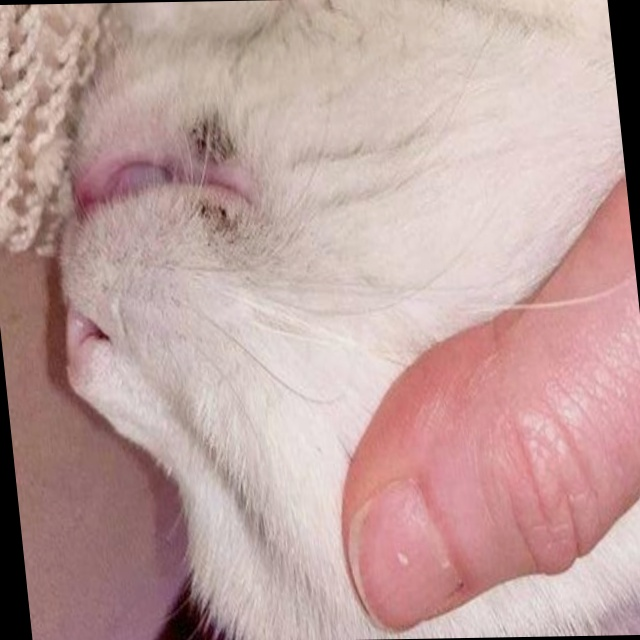acne: (194, 187, 253, 264), (185, 105, 237, 175)
